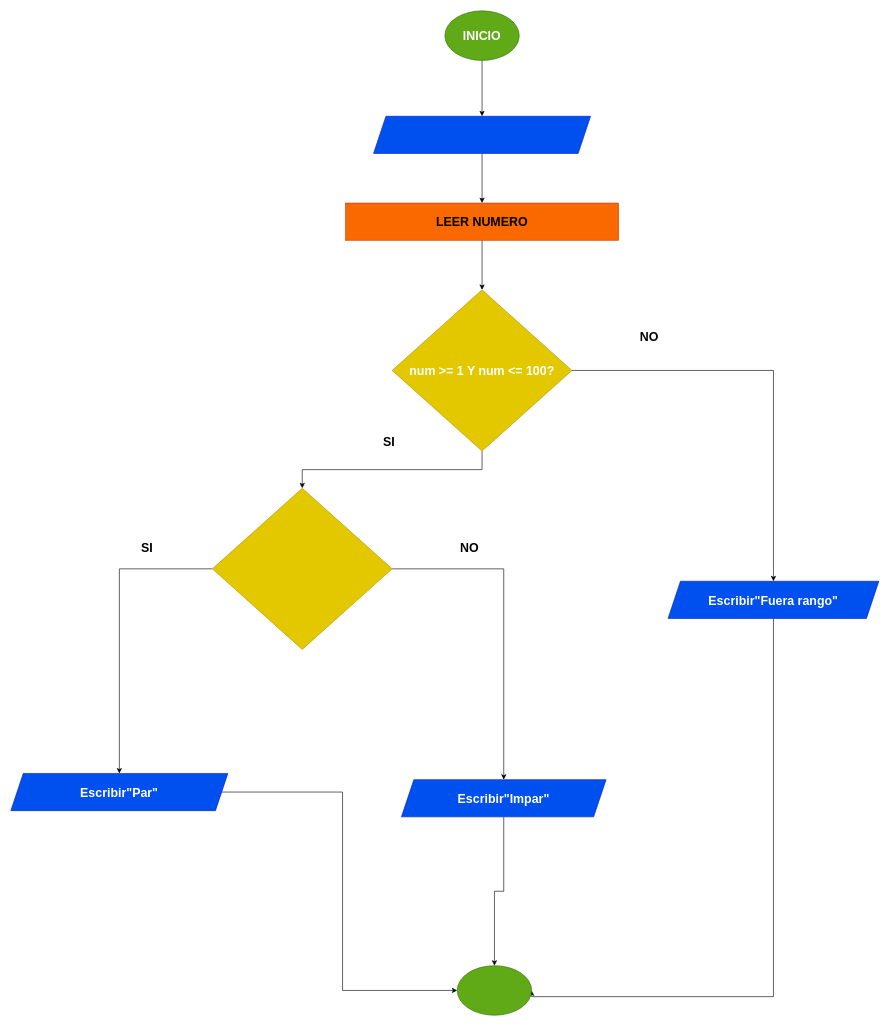
This 890x1026 diagram has some shape labels left out. The centre of each missing label's shape, as x and y in pixels:
"DIGITE NUMERO" goes at (x=482, y=134).
"FIN" goes at (x=494, y=990).
"num MOD 2 = 0?" goes at (x=302, y=568).
